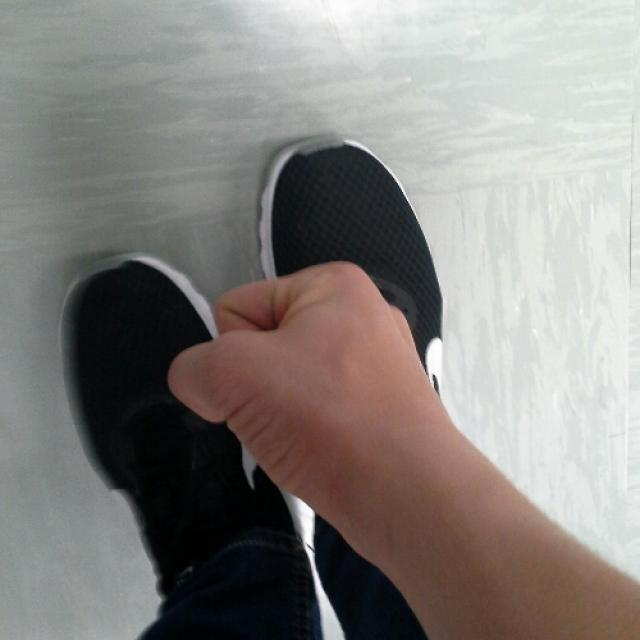rock: (166, 256, 456, 536)
